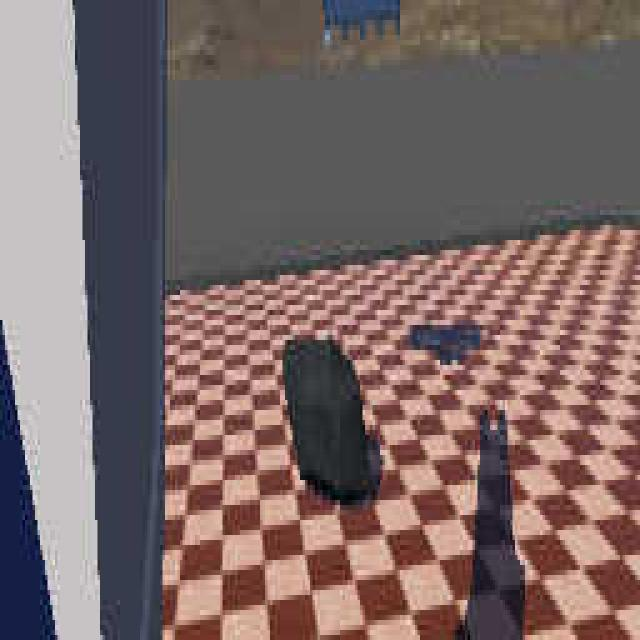rock: (283, 332, 370, 510)
